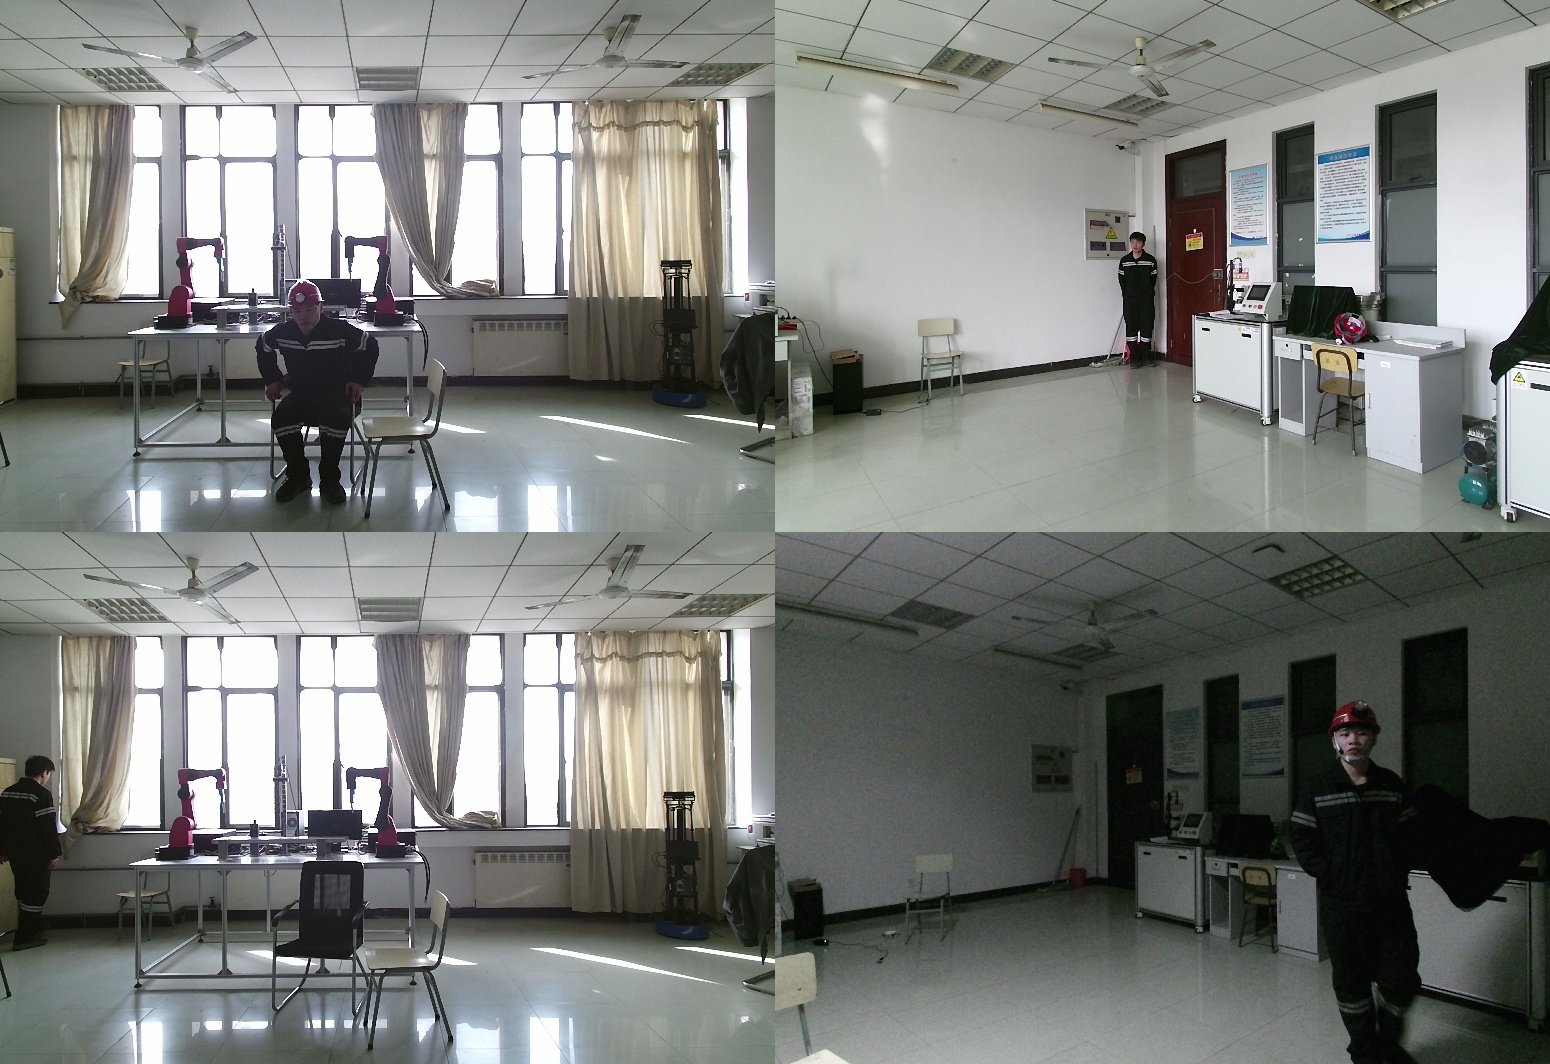person: (1287, 700, 1430, 1064), (256, 281, 386, 503), (1, 756, 68, 949), (1116, 232, 1161, 370)
